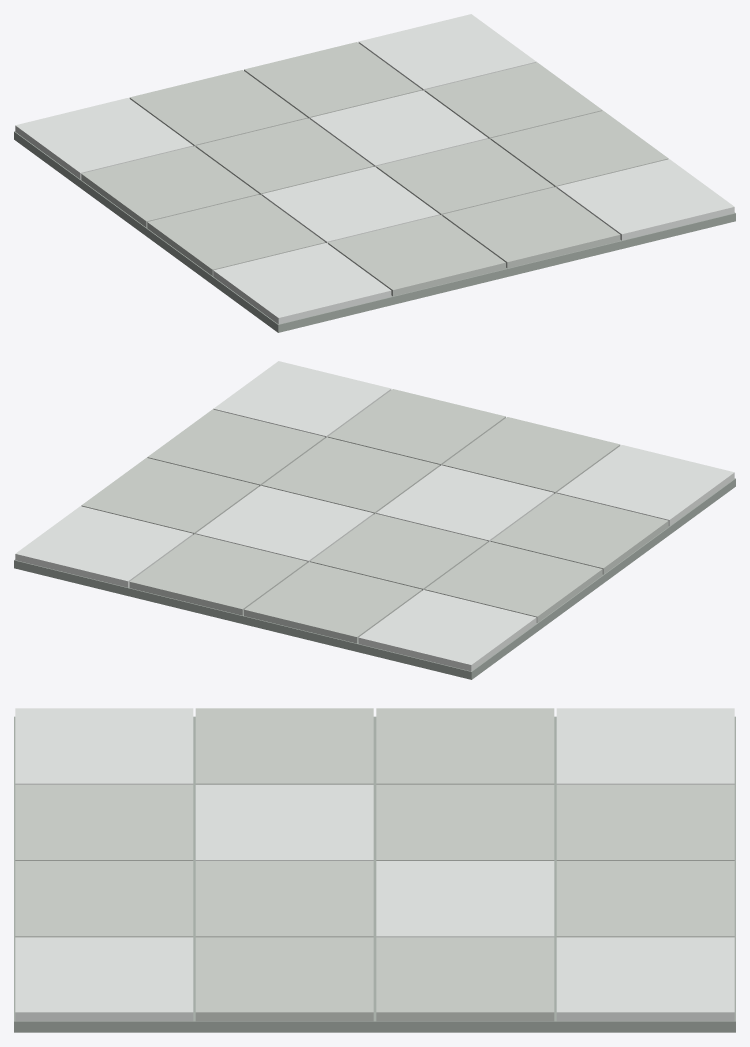
Rendered from gh_floor_paving_v01.glb.
3 renders of one model, top to bottom at view 1: azimuth 30°, elevation 25°; view 2: azimuth 150°, elevation 25°; view 3: azimuth 270°, elevation 25°, orthographic. The views are drawn at different scales.
Parts seen in each view (by area): view 1: Large-format campus paving; view 2: Large-format campus paving; view 3: Large-format campus paving.
Part boxes in pixels (bbox=[...]): Large-format campus paving: bbox=[14, 14, 735, 332]; Large-format campus paving: bbox=[14, 361, 735, 679]; Large-format campus paving: bbox=[14, 708, 735, 1032].
Bounding box in the file's own units: 6 × 0.18 × 6.
1 material, 1 textured.
